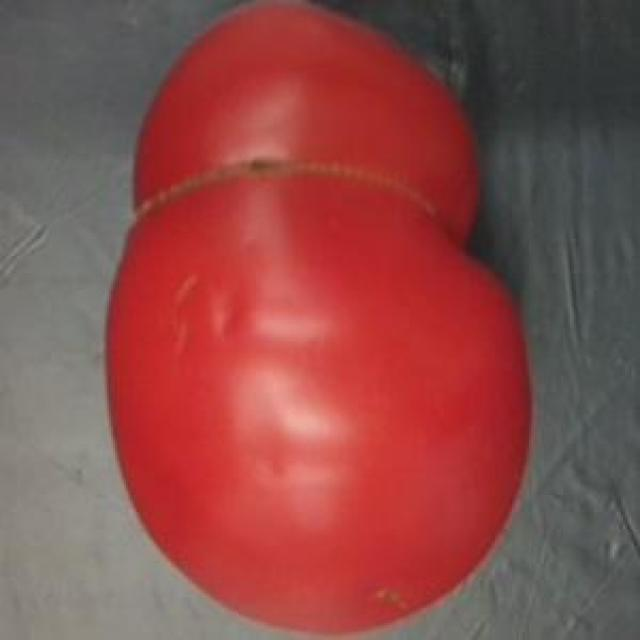overripe tomato: (98, 0, 551, 640)
